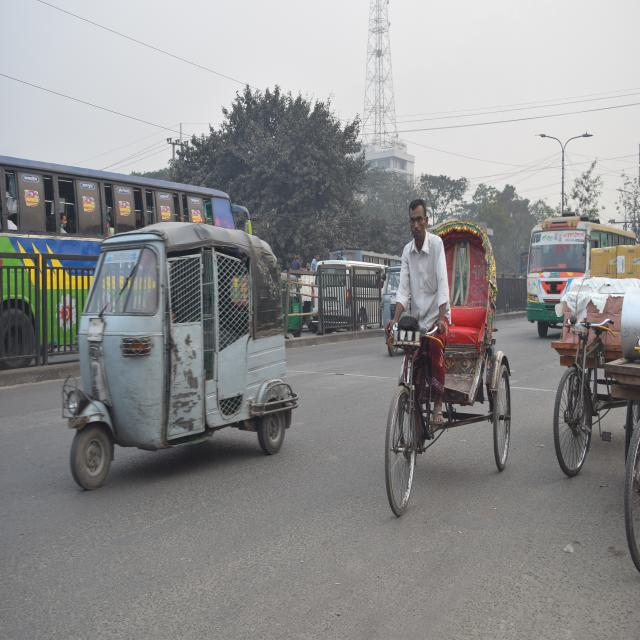bus: (525, 212, 640, 342)
